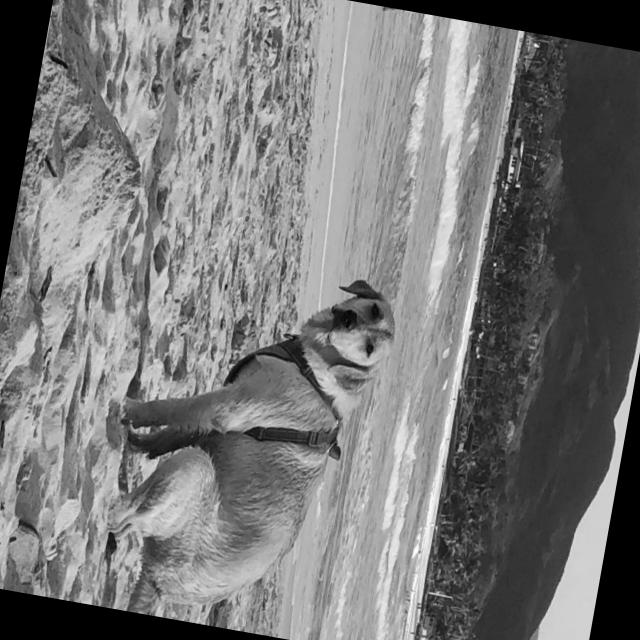squatting: (84, 232, 415, 640)
